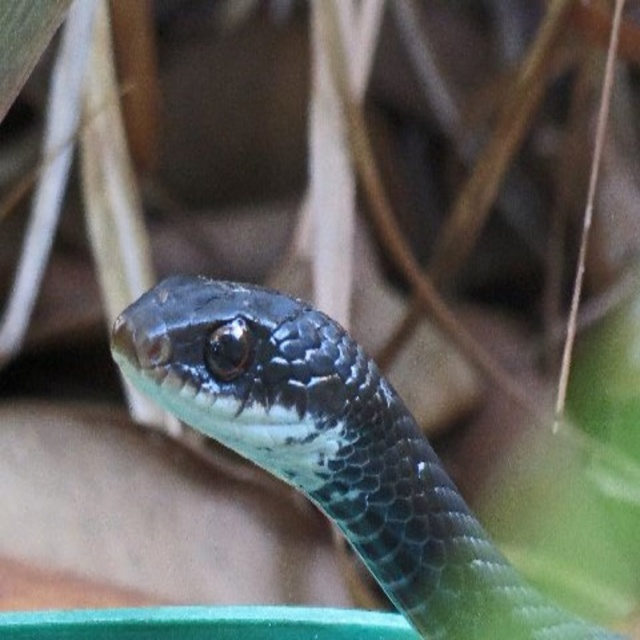Snake: (108, 279, 632, 638)
